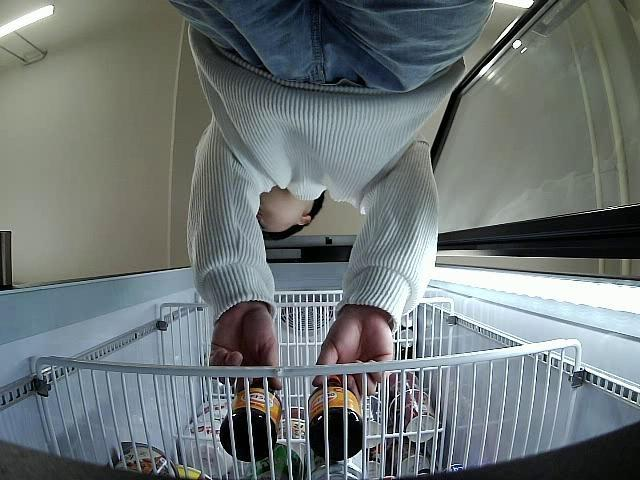17_vita500: (218, 378, 282, 460), (308, 376, 364, 460)
